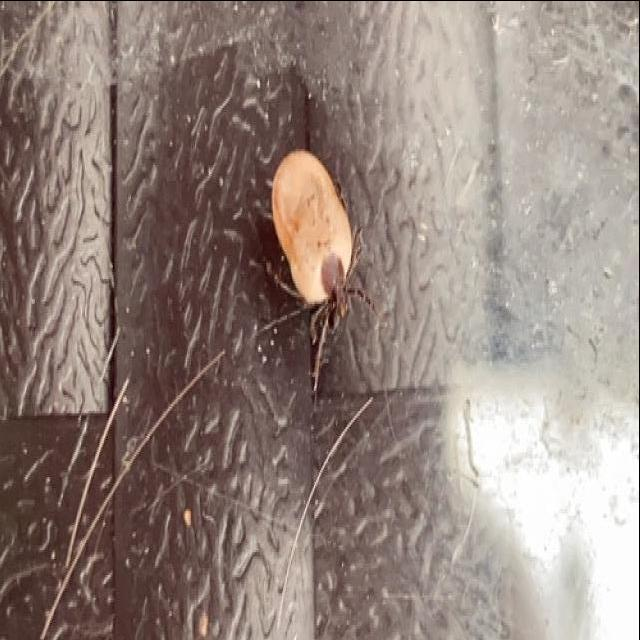Ixodes Ricinus-F-Fed: (271, 148, 378, 401)
